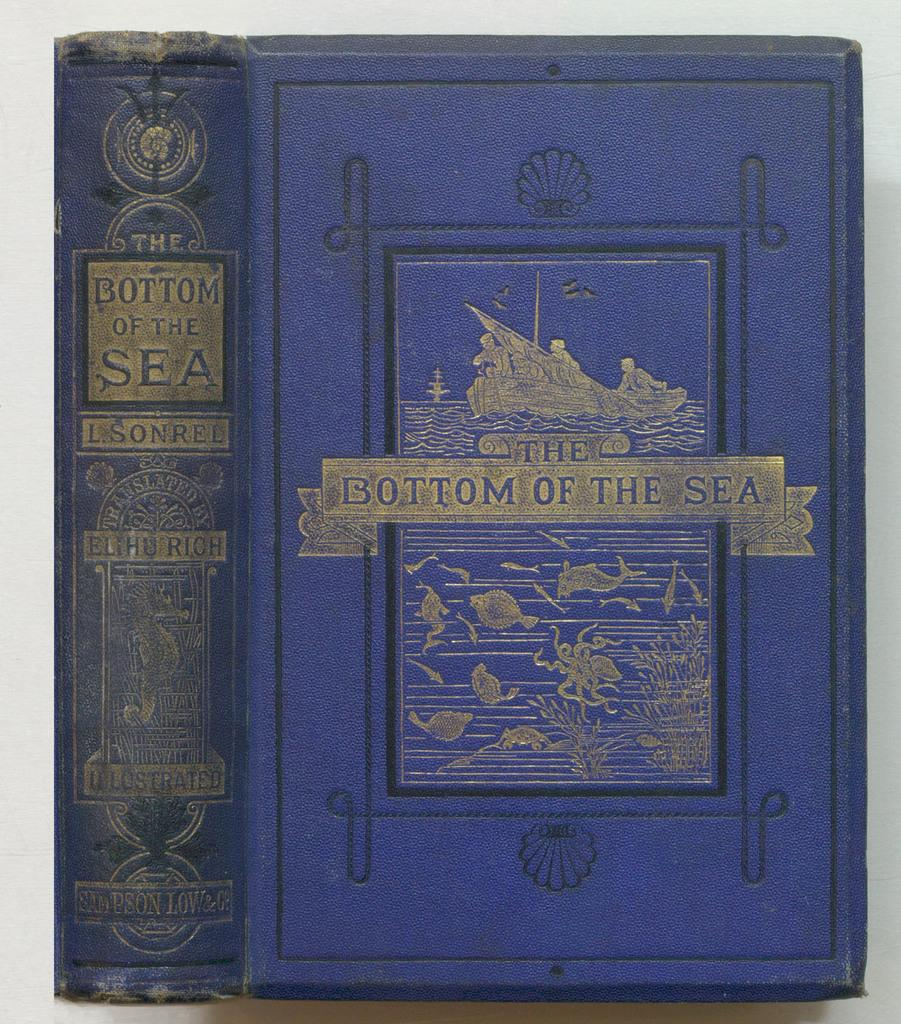book: (54, 40, 881, 1007)
